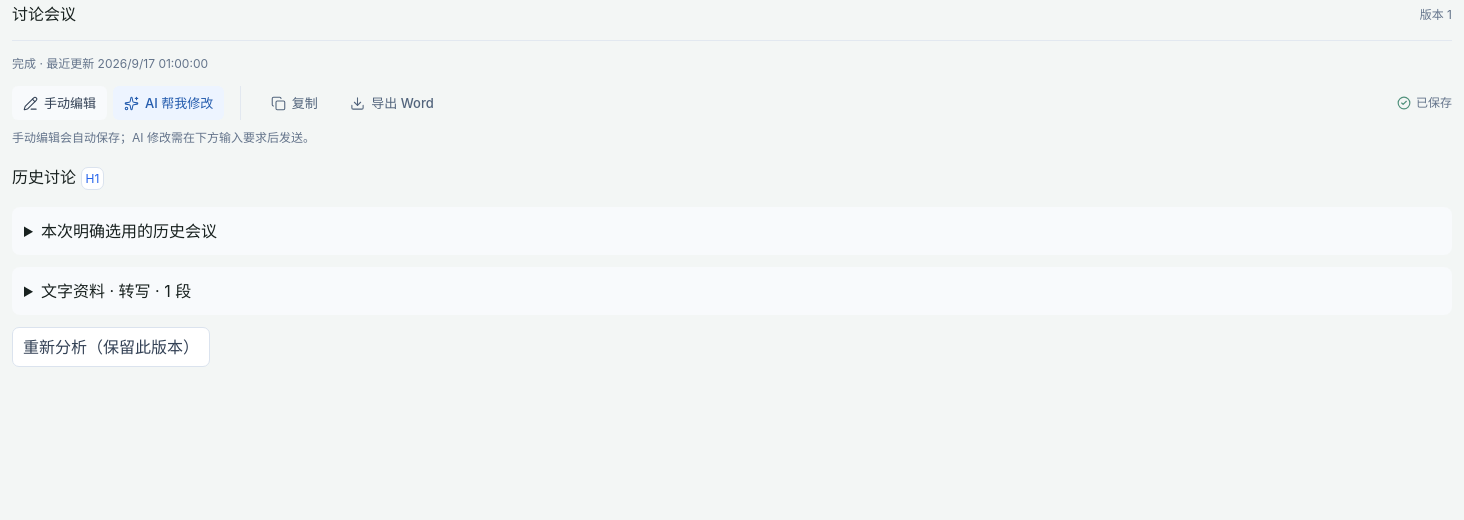
Test: meeting results › opens explicitly selected history separately from current paragraph evidence
Click the button "H1" at (92, 179), box [80, 167, 104, 190]
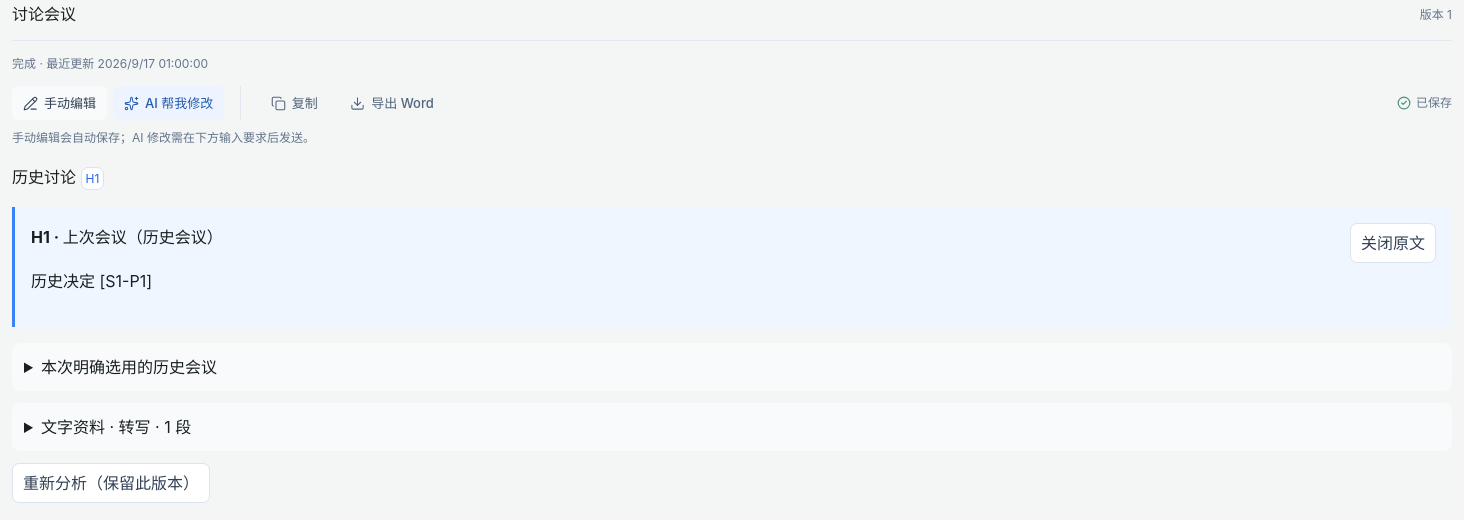
expect the element named "历史会议依据" shows "历史决定": met, box [31, 271, 152, 291]
